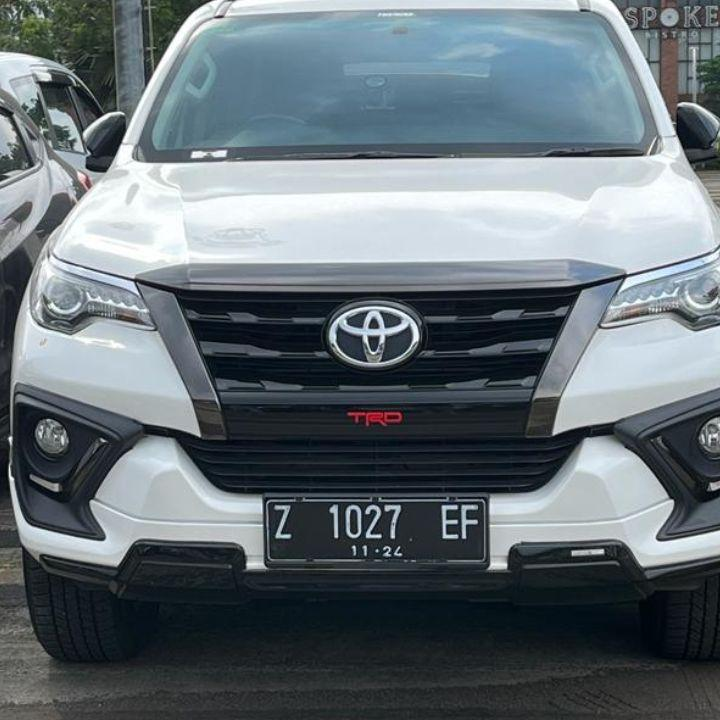plat: (266, 498, 487, 564)
